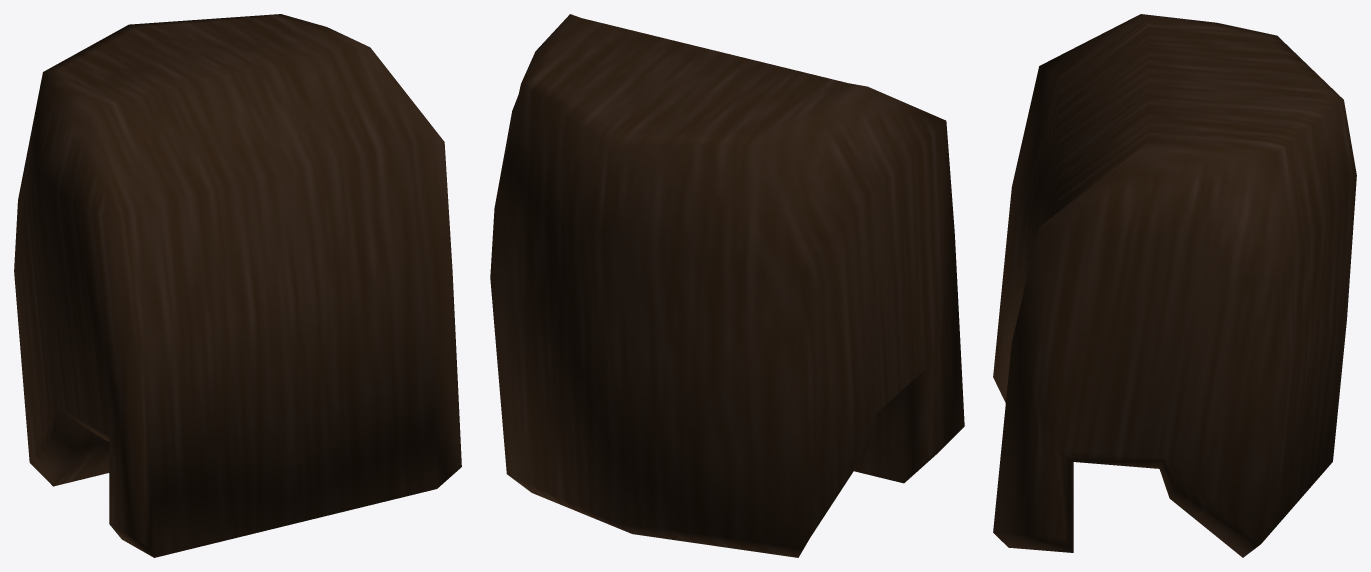
The model's file is the_apex.glb.
3 views of the same model, side by side, from view 1: azimuth 30°, elevation 25°; view 2: azimuth 150°, elevation 25°; view 3: azimuth 270°, elevation 25° (orthographic). The views are drawn at different scales.
Visible parts, largest first — view 1: The Apex; view 2: The Apex; view 3: The Apex.
Part boxes in pixels (box(x1,y1,x2,y2)): The Apex: box(14, 14, 461, 557); The Apex: box(490, 14, 964, 557); The Apex: box(993, 14, 1356, 557).
Bounding box in the file's own units: 0.1908 × 0.2229 × 0.1767.
Materials: 1 (1 with a texture image).
